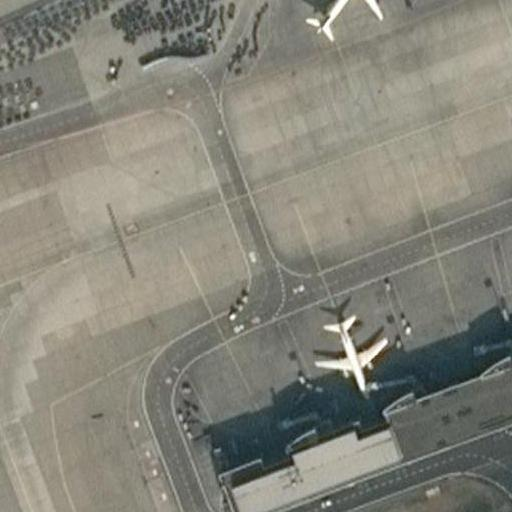Aircraft: (307, 303, 397, 403), (288, 0, 394, 44)
